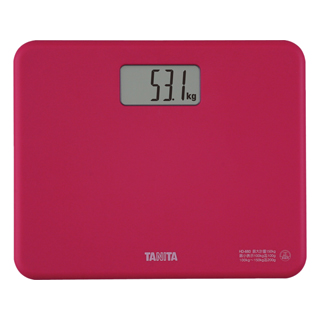LCD: (119, 64, 202, 107)
